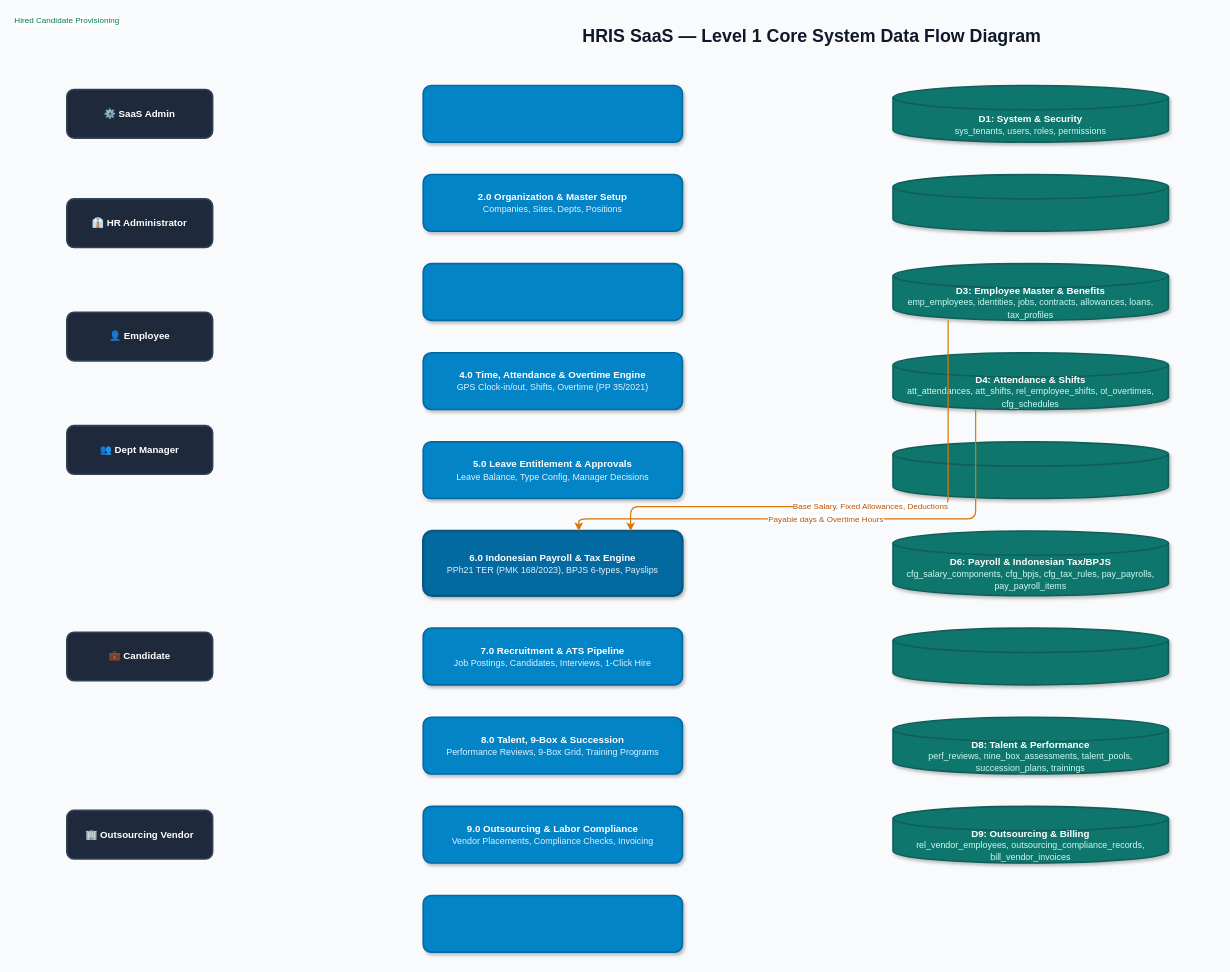
Image size: 1230x972. Some labels were removed from this diagram. Each missing label, with the centre of its shape:
"1.0 Auth, RBAC & Tenant Control Users, Roles, Permissions, Multi-Tenancy" belongs at pixel 553 114.
"10.0 SaaS Subscriptions & System Health Plans, Payments, Bug Report Diagnostics" belongs at pixel 553 924.
"3.0 Employee Master & Lifecycle Identities, Jobs, PKWT/PKWTT, Tax/Bank Profiles" belongs at pixel 553 292.
"D2: Organization Master org_companies, org_sites, org_departments, org_positions" belongs at pixel 1031 203.
"D5: Leave Data lv_leaves, lv_leave_types" belongs at pixel 1031 471.
"D7: Recruitment & ATS trx_jobs, trx_candidates, trx_applications, trx_interviews" belongs at pixel 1031 657.
